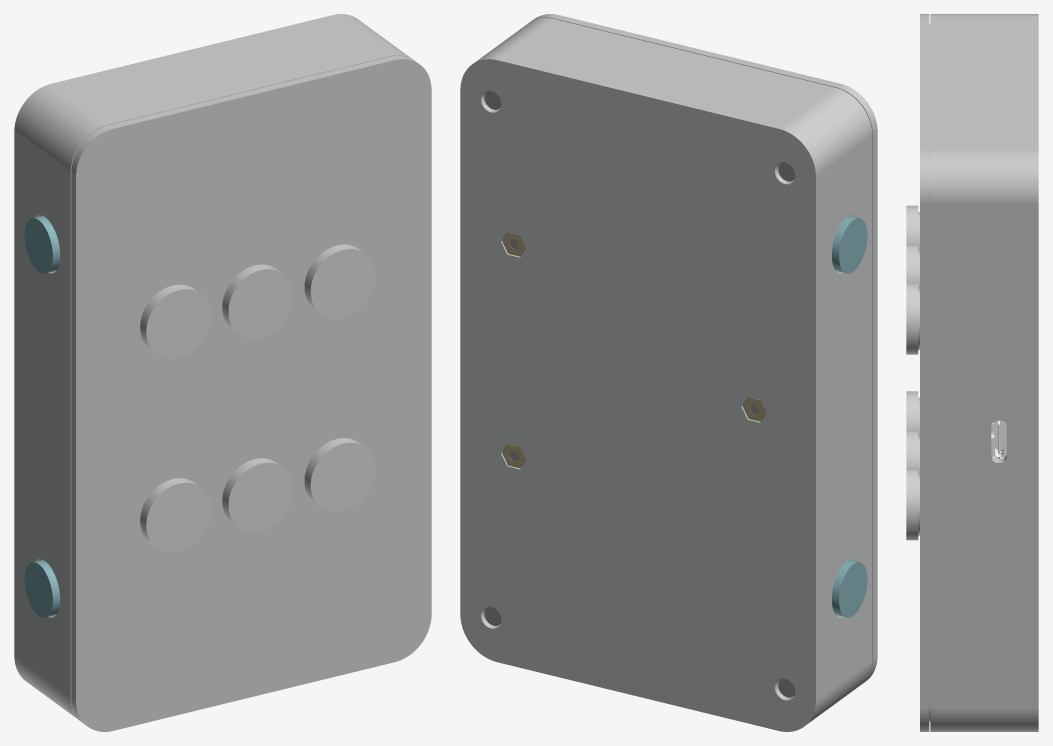
File: assembly-S03.glb
The picture shows the model from 3 angles, left to right: view 1: azimuth 30°, elevation 25°; view 2: azimuth 150°, elevation 25°; view 3: azimuth 270°, elevation 25°; orthographic projection. The views are drawn at different scales.
Visible parts, largest first — view 1: lid, base, cap_1, cap_5, cap_6, cap_3, cap_2, cap_4, side_cap_0, side_cap_1; view 2: base, lid, side_cap_0, side_cap_1; view 3: base, lid, cap_6, cap_3, cap_1, cap_5, cap_4, cap_2, STEP_part_672.
Boxes of the visible parts, <box> form: lid: <box>71,55,431,731</box>; base: <box>14,14,411,721</box>; cap_1: <box>140,478,211,552</box>; cap_5: <box>222,264,293,338</box>; cap_6: <box>304,244,375,318</box>; cap_3: <box>304,438,375,512</box>; cap_2: <box>222,458,293,532</box>; cap_4: <box>140,284,211,358</box>; side_cap_0: <box>24,560,60,617</box>; side_cap_1: <box>24,215,60,273</box>; base: <box>460,18,872,731</box>; lid: <box>532,14,877,683</box>; side_cap_0: <box>831,560,867,617</box>; side_cap_1: <box>831,215,867,273</box>; base: <box>930,14,1038,731</box>; lid: <box>920,14,930,731</box>; cap_6: <box>906,282,919,354</box>; cap_3: <box>906,468,919,540</box>; cap_1: <box>906,391,919,436</box>; cap_5: <box>906,244,919,288</box>; cap_4: <box>906,205,919,250</box>; cap_2: <box>906,430,919,474</box>; STEP_part_672: <box>994,420,1003,457</box>.
Bounding box in the file's own units: 0.0881 × 0.14 × 0.029.
